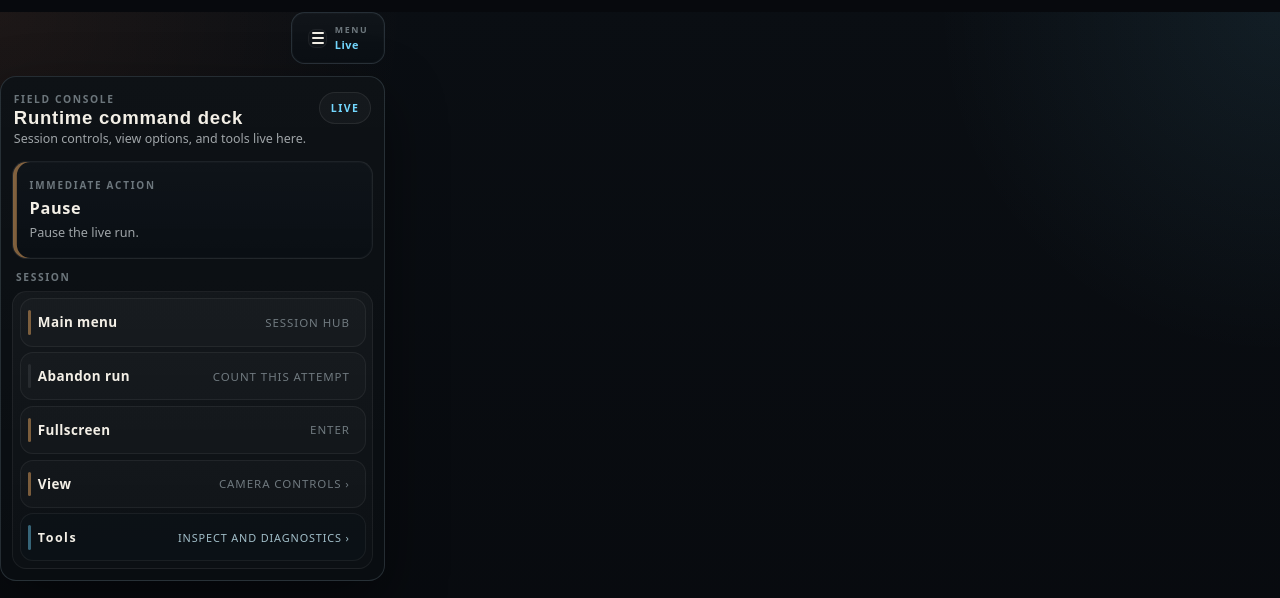
Scenario: ShellMenu › opens a dedicated View submenu without keeping camera controls on the root screen
Click the button "View Camera controls ›" at (55, 484), box [20,460,366,508]
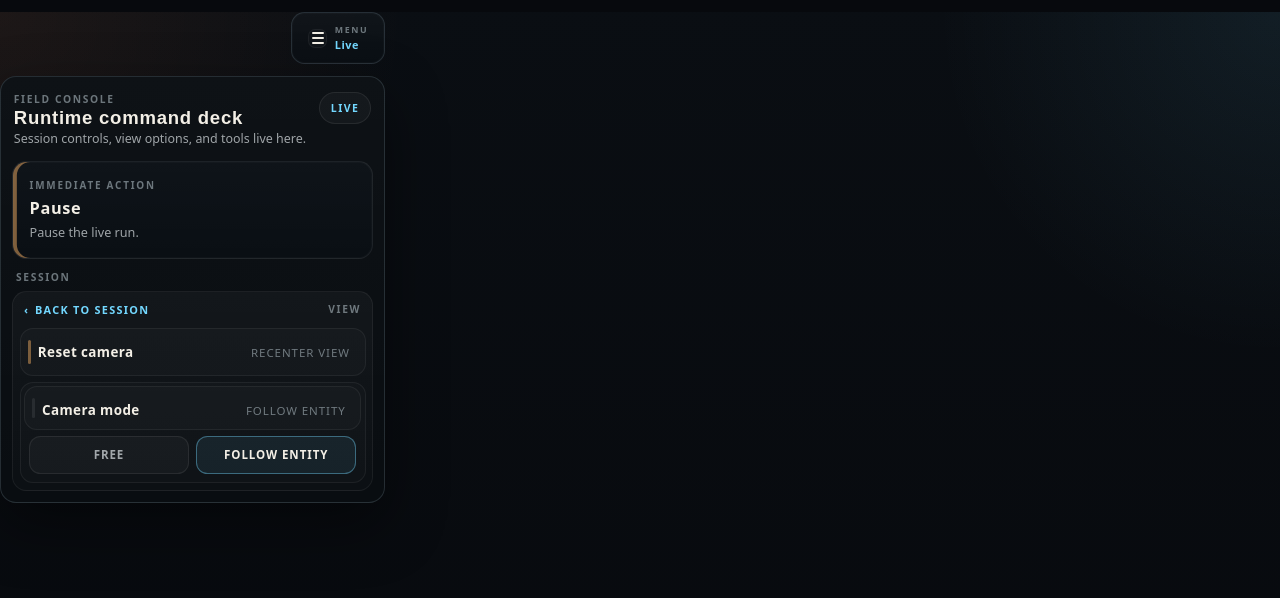
Expected: the text "View" is shown, [328,302,361,316]
Expected: the button "‹ Back to Session" is shown, [24,302,149,317]
Expected: the button "Reset camera Recenter view" is shown, [20,328,366,376]
